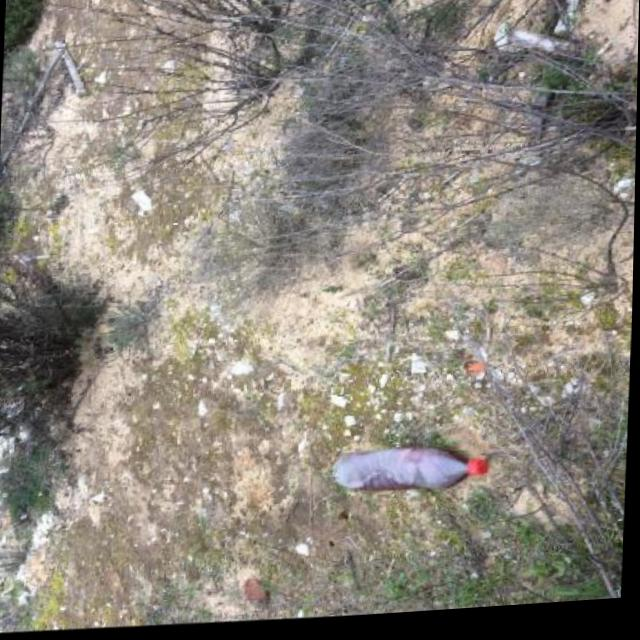plastic: (329, 440, 488, 500)
